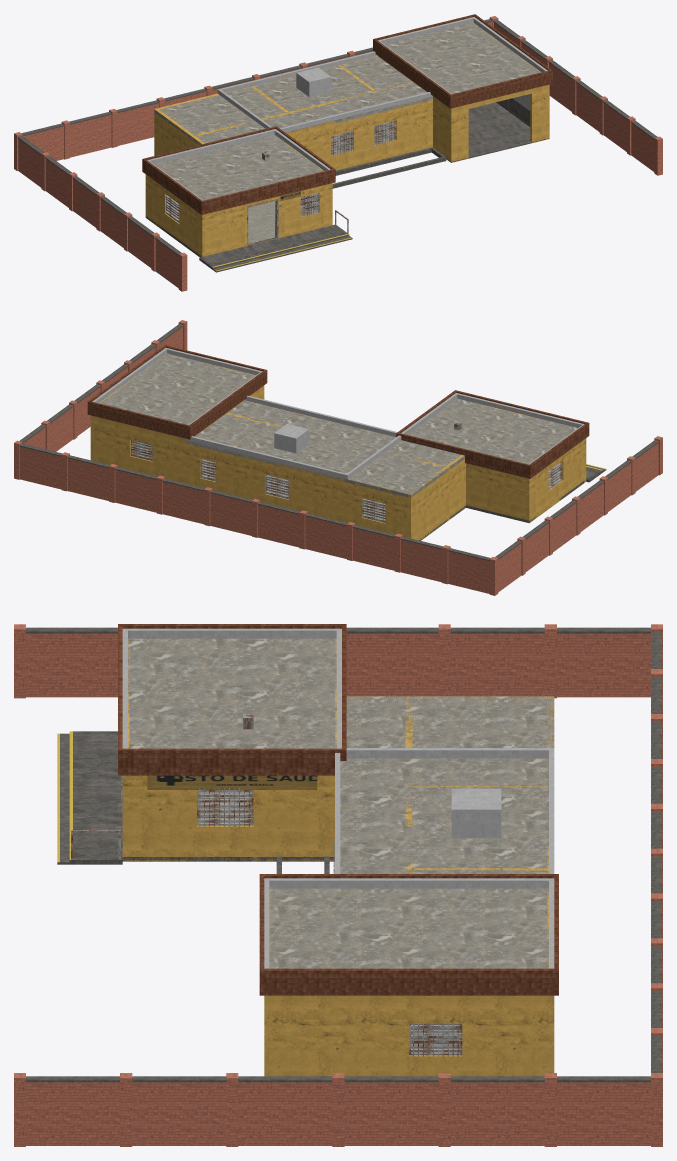
The model's file is casa_velha.glb.
3 views of the same model, one above another, from view 1: azimuth 30°, elevation 25°; view 2: azimuth 150°, elevation 25°; view 3: azimuth 270°, elevation 25° (orthographic). The views are drawn at different scales.
Parts seen in each view (by area): view 1: casa_laje, casa_reboco_externo, casa_tijolo, casa_cimento, casa_telha, casa_platibanda, casa_ferro_velho, casa_piso_azulejo, casa_faixa_amarela; view 2: casa_tijolo, casa_laje, casa_reboco_externo, casa_telha, casa_platibanda, casa_cimento, casa_ferro_velho; view 3: casa_laje, casa_tijolo, casa_reboco_externo, casa_cimento, casa_telha, casa_platibanda, casa_ferro_velho, casa_placa_fachada, casa_faixa_amarela.
Boxes of the visible parts, x1,y1,x2,y2 form: casa_laje: (154,22,540,200); casa_reboco_externo: (145,23,549,256); casa_tijolo: (14,16,662,291); casa_cimento: (17,19,657,272); casa_telha: (142,14,552,214); casa_platibanda: (147,17,547,200); casa_ferro_velho: (165,120,396,245); casa_piso_azulejo: (168,123,393,243); casa_faixa_amarela: (212,234,351,271); casa_tijolo: (14,320,662,595); casa_laje: (100,353,577,497); casa_reboco_externo: (90,353,586,540); casa_telha: (87,345,589,478); casa_platibanda: (92,348,584,481); casa_cimento: (19,324,659,560); casa_ferro_velho: (131,422,562,522); casa_laje: (128,638,554,968); casa_tijolo: (14,624,662,1146); casa_reboco_externo: (122,638,554,1076); casa_cimento: (26,627,661,1082); casa_telha: (118,624,558,995); casa_platibanda: (122,628,554,968); casa_ferro_velho: (71,713,462,1056); casa_placa_fachada: (147,775,317,789); casa_faixa_amarela: (57,731,72,862).
Bounding box in the file's own units: 30.34 × 4.13 × 18.34.
Materials: 18 (17 with a texture image).
